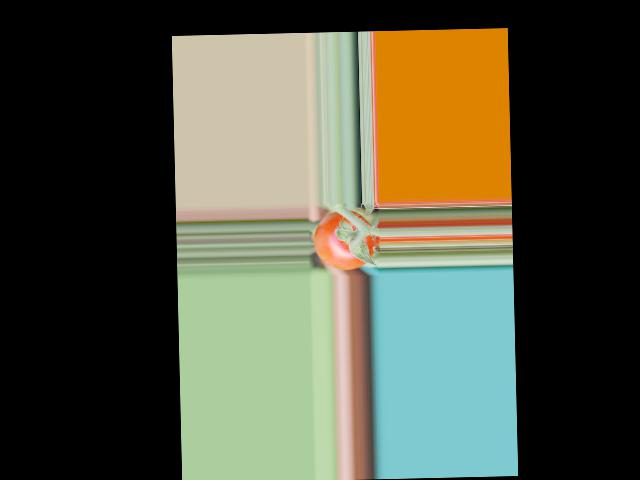tomato: (313, 209, 379, 271)
